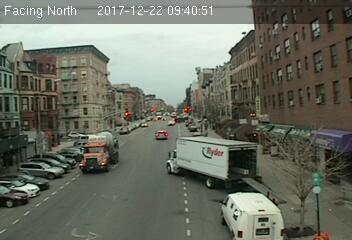car: (155, 128, 168, 139)
truck: (167, 136, 261, 189), (219, 188, 287, 240), (80, 130, 121, 171)
